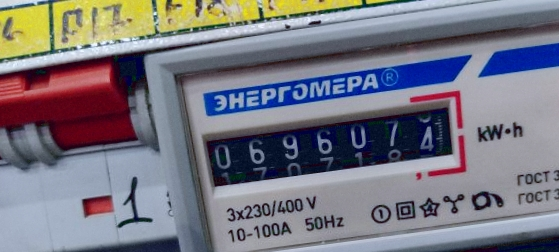0: (211, 139, 234, 170), (346, 120, 368, 149)
4: (415, 123, 436, 153)
6: (313, 125, 334, 155), (245, 136, 266, 165)
7: (380, 116, 403, 148)
9: (279, 131, 300, 161)
screen: (187, 85, 475, 208)
